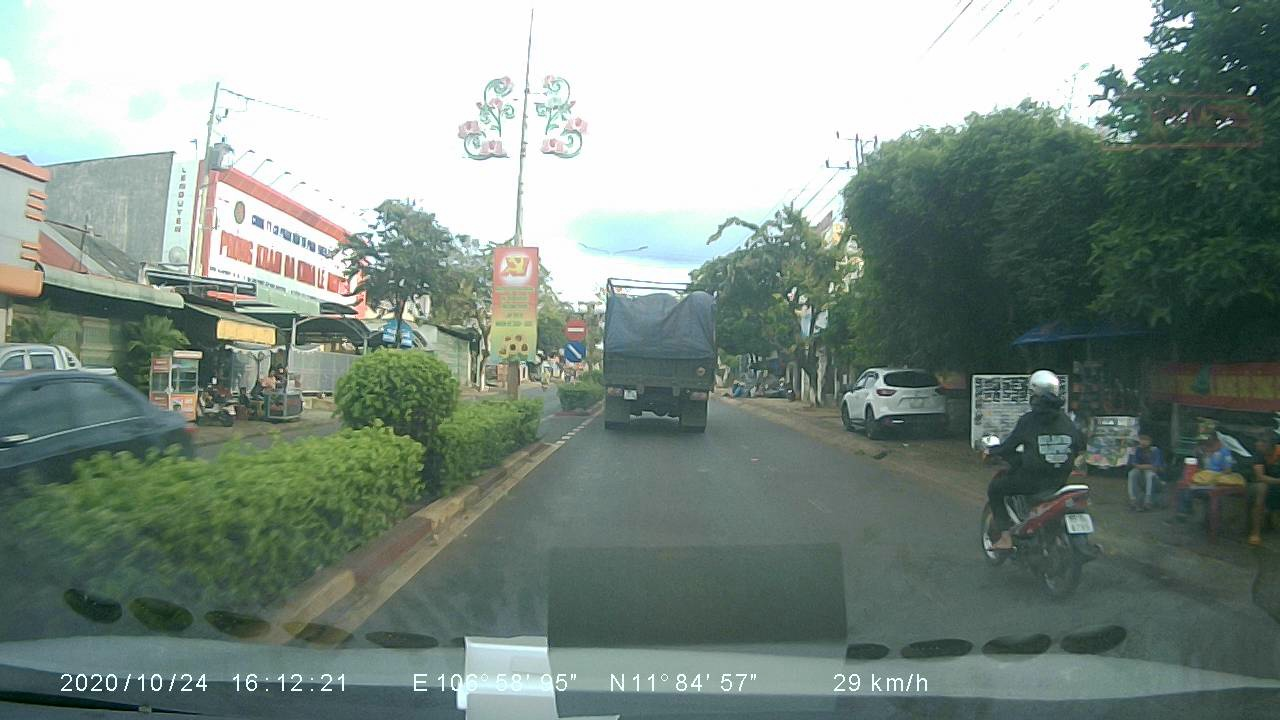Cam di nguoc chieu: (563, 315, 587, 342)
Huong di phai re phai: (561, 342, 585, 364)
